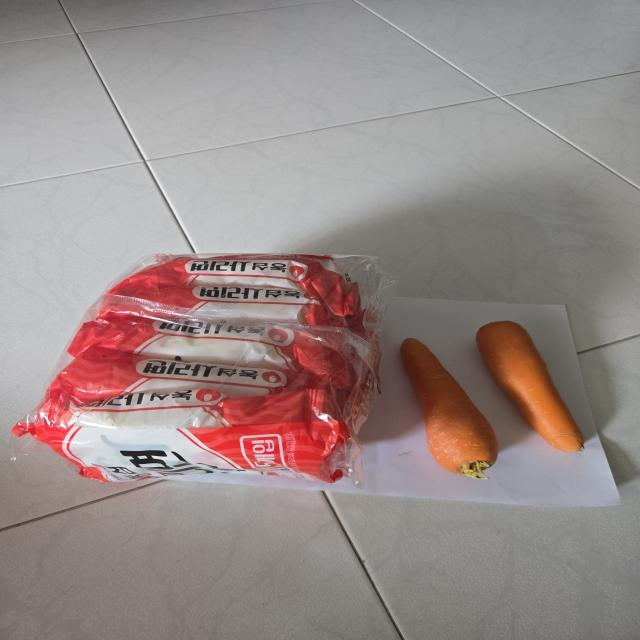carrot: (393, 324, 509, 490), (468, 314, 593, 458)
instant-noodle: (7, 247, 378, 494)
